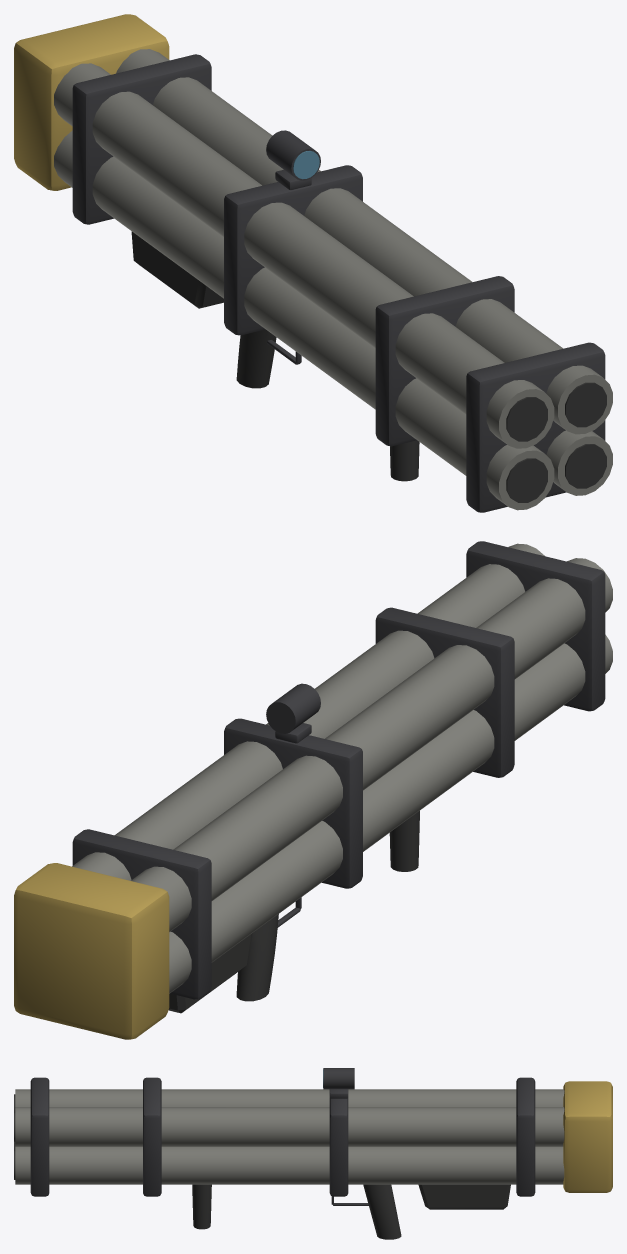
Rendered from hornet.glb.
3 views of the same model, one above another, from view 1: azimuth 30°, elevation 25°; view 2: azimuth 150°, elevation 25°; view 3: azimuth 270°, elevation 25° (orthographic). The views are drawn at different scales.
Parts seen in each view (by area): view 1: Body; view 2: Body; view 3: Body.
Boxes of the visible parts, box(x1,y1,x2,y2) form: Body: box(14, 14, 612, 512); Body: box(14, 541, 612, 1039); Body: box(14, 1068, 612, 1239).
Size of the model in its own units: 0.1472 by 0.2956 by 0.962.
